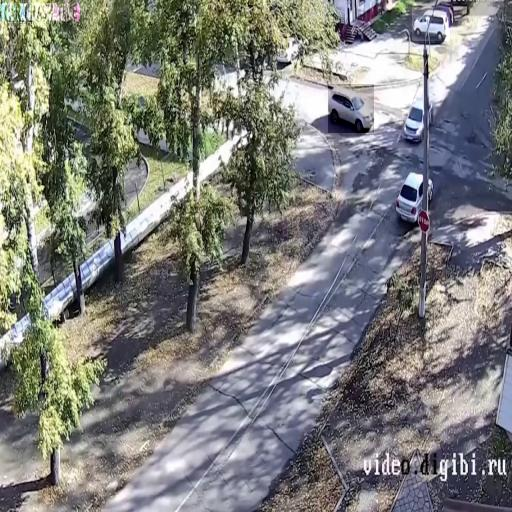小汽车: (328, 84, 374, 133), (396, 171, 434, 223), (412, 7, 450, 41), (402, 99, 423, 139)
